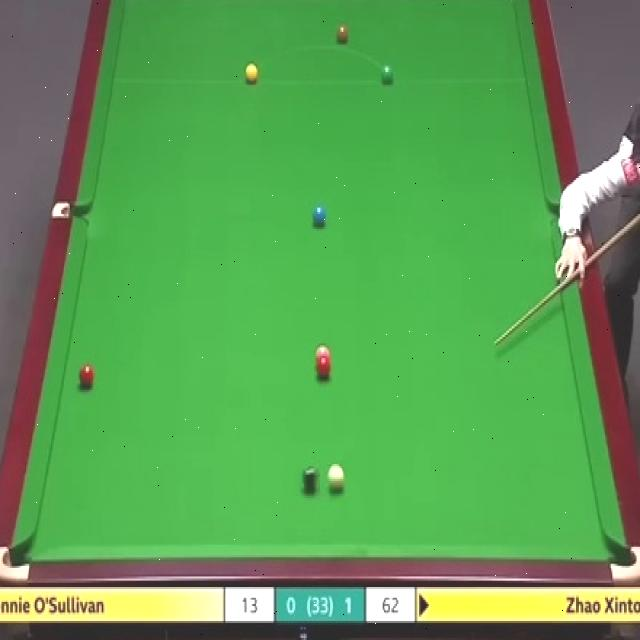black-ball: (302, 466, 319, 493)
blue-ball: (312, 203, 327, 226)
brown-ball: (336, 24, 348, 43)
green-ball: (379, 62, 394, 85)
pink-ball: (314, 344, 332, 362)
red-ball: (79, 364, 94, 387), (314, 360, 330, 378)
white-ball: (328, 464, 344, 491)
yellow-ball: (245, 64, 258, 85)
